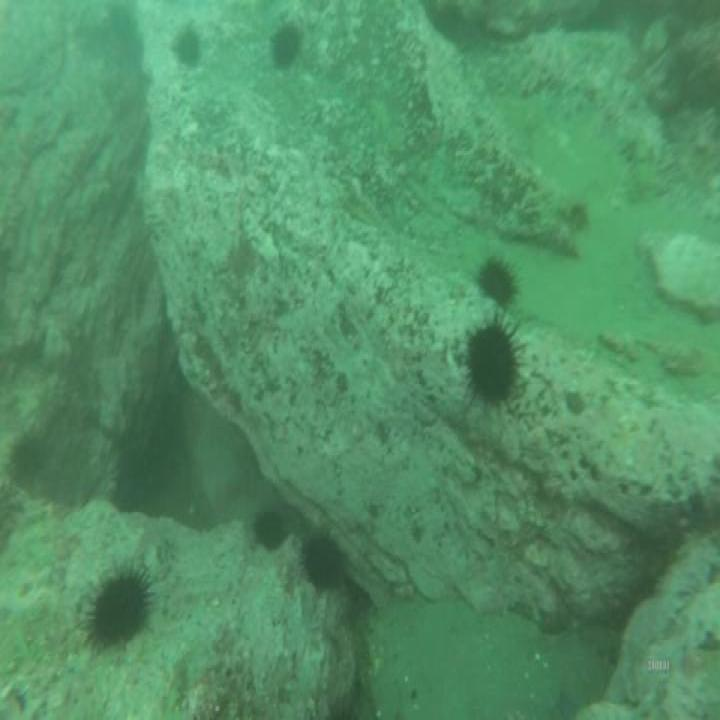echinus: (465, 324, 516, 398), (91, 578, 146, 642), (305, 544, 342, 587), (479, 258, 514, 300), (269, 25, 297, 67), (252, 510, 282, 546), (173, 28, 196, 64)
